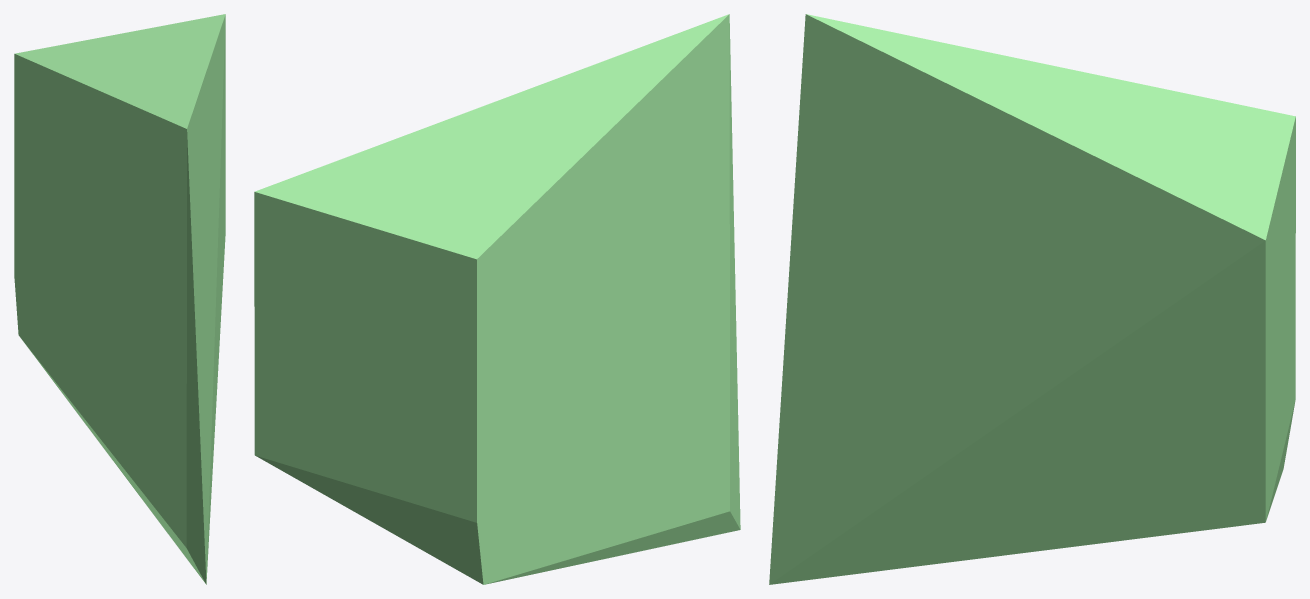
Rendered from dvkr_robot_L2_respondable_PSM2_coll_4.dae.
The picture shows the model from 3 angles, left to right: view 1: azimuth 30°, elevation 25°; view 2: azimuth 150°, elevation 25°; view 3: azimuth 270°, elevation 25°; orthographic projection. The views are drawn at different scales.
Visible parts, largest first — view 1: Node_0000023514CD7BC0; view 2: Node_0000023514CD7BC0; view 3: Node_0000023514CD7BC0.
Part boxes in pixels (x1=…): Node_0000023514CD7BC0: x1=14, y1=14, x2=225, y2=584; Node_0000023514CD7BC0: x1=254, y1=14, x2=740, y2=584; Node_0000023514CD7BC0: x1=769, y1=14, x2=1295, y2=584.
Size of the model in its own units: 0.033 by 0.0639 by 0.0538.
